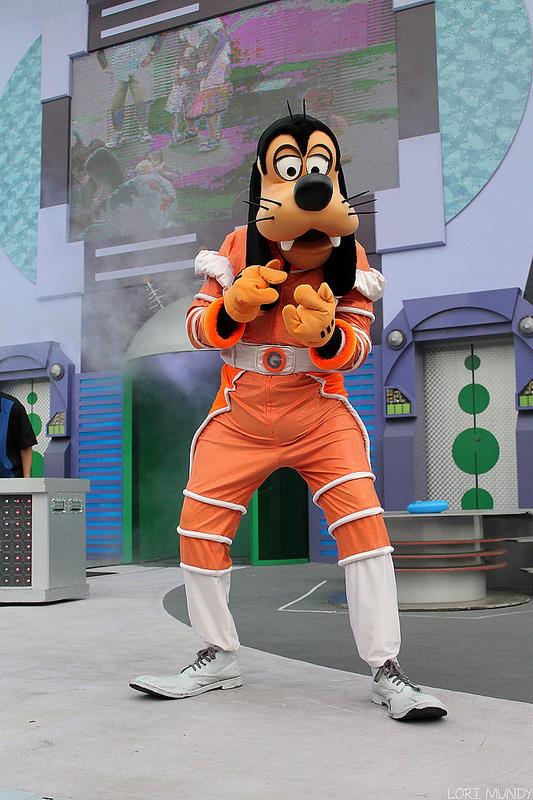Goofy: (207, 104, 378, 283)
